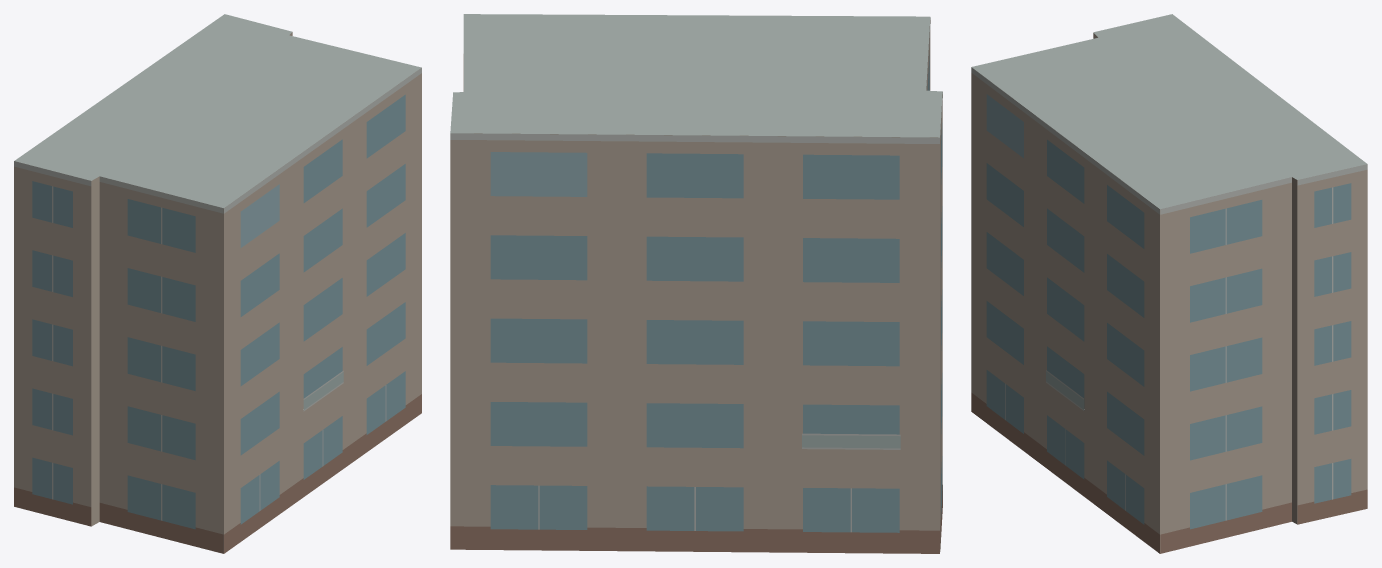
File: survey-upis-32743129.glb
3 renders of one model, left to right at view 1: azimuth 30°, elevation 25°; view 2: azimuth 150°, elevation 25°; view 3: azimuth 270°, elevation 25°, orthographic. The views are drawn at different scales.
Visible parts, largest first — view 1: survey-upis-32743129.tmp; view 2: survey-upis-32743129.tmp; view 3: survey-upis-32743129.tmp.
Boxes of the visible parts, <box> form: survey-upis-32743129.tmp: <box>14,14,421,553</box>; survey-upis-32743129.tmp: <box>450,14,942,553</box>; survey-upis-32743129.tmp: <box>971,14,1367,553</box>.
Bounding box in the file's own units: 18.55 × 15.25 × 15.91.
